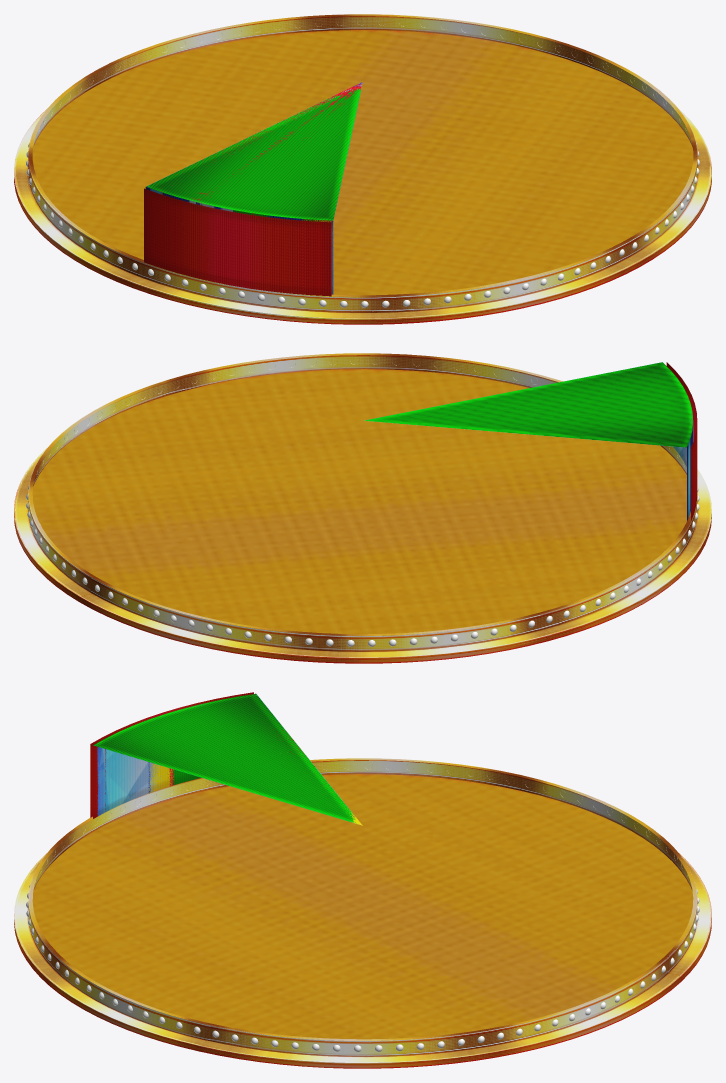
The model's file is Wheel Final.FBX.
The picture shows the model from 3 angles, top to bottom: view 1: azimuth 30°, elevation 25°; view 2: azimuth 150°, elevation 25°; view 3: azimuth 270°, elevation 25°; orthographic projection.
Visible parts, largest first — view 1: wheel_base, wheel_green, Front Panel, wheel_red_2; view 2: wheel_base, wheel_green, Front Panel; view 3: wheel_base, wheel_green, wheel_diamond, Front Panel, wheel_orange_2.
Boxes of the visible parts, x1,y1,x2,y2 form: wheel_base: (14, 14, 711, 324); wheel_green: (146, 88, 360, 236); Front Panel: (144, 188, 331, 296); wheel_red_2: (161, 82, 362, 216); wheel_base: (14, 353, 711, 663); wheel_green: (364, 362, 693, 447); Front Panel: (666, 362, 697, 520); wheel_base: (14, 758, 711, 1068); wheel_green: (93, 693, 355, 822); wheel_diamond: (97, 747, 162, 816); Front Panel: (90, 692, 253, 817); wheel_orange_2: (149, 763, 362, 825).
Bounding box in the file's own units: 356 × 53.75 × 356.
Materials: 1 (1 with a texture image).
